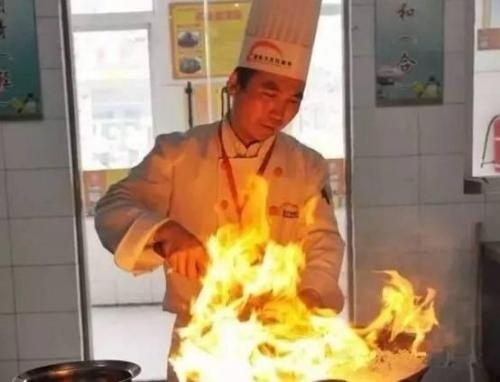fire: (164, 172, 423, 376)
